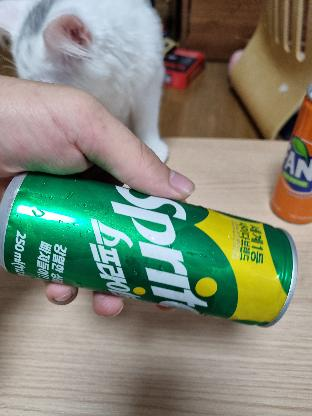Can: (10, 166, 294, 322)
